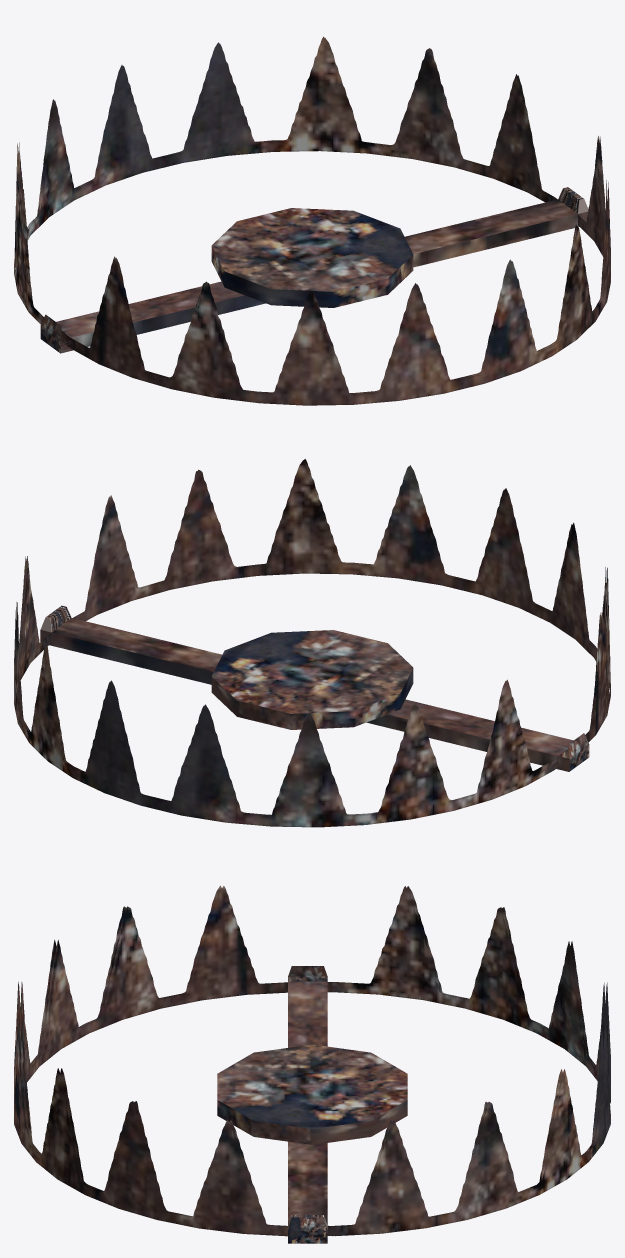
The model's file is bear_trap.FBX.
The picture shows the model from 3 angles, top to bottom: view 1: azimuth 30°, elevation 25°; view 2: azimuth 150°, elevation 25°; view 3: azimuth 270°, elevation 25°; orthographic projection.
Parts seen in each view (by area): view 1: bear_trap; view 2: bear_trap; view 3: bear_trap.
Part boxes in pixels (<box>): bear_trap: <box>14,36,610,405</box>; bear_trap: <box>14,459,610,827</box>; bear_trap: <box>14,885,610,1243</box>.
Size of the model in its own units: 56.01 by 13.98 by 55.58.
